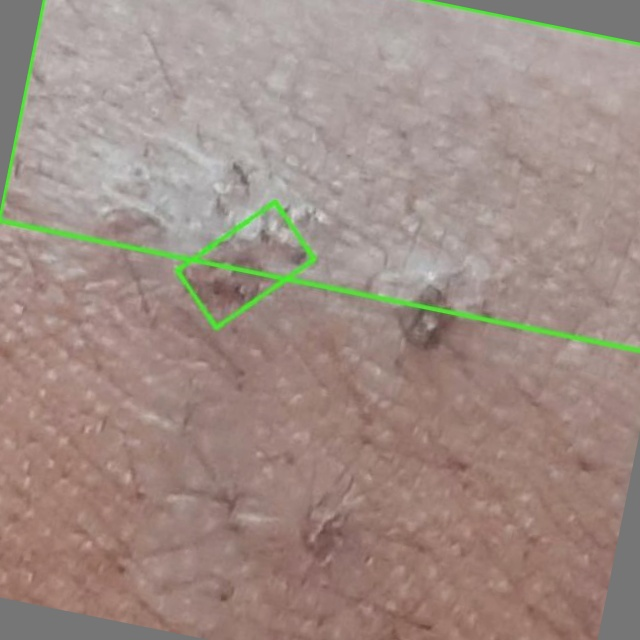Atopic Dermatitis: (0, 0, 639, 350), (176, 202, 314, 328)
